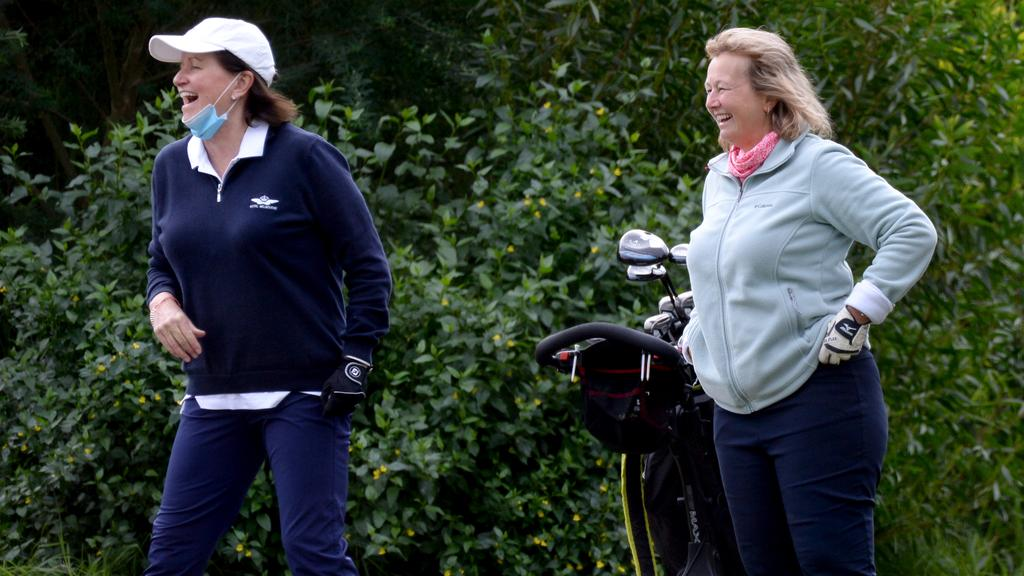mouth: (177, 89, 199, 109), (713, 112, 734, 127)
nose: (171, 74, 188, 85), (705, 99, 719, 109)
